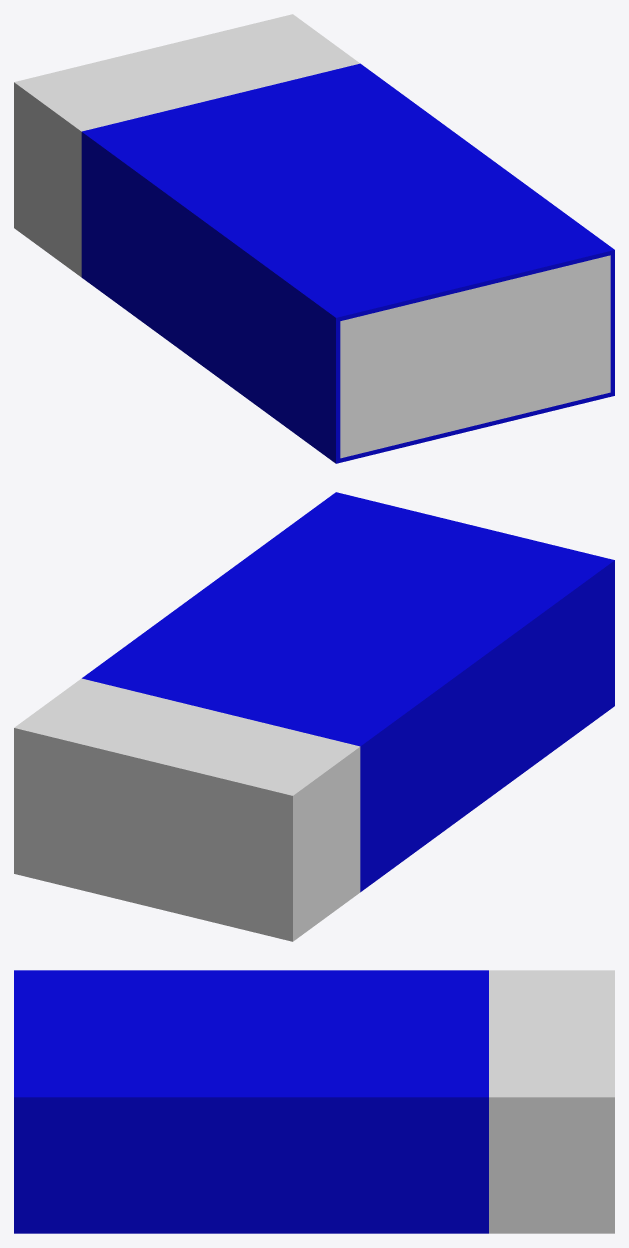
Rendered from Erasor.fbx.
3 views of the same model, one above another, from view 1: azimuth 30°, elevation 25°; view 2: azimuth 150°, elevation 25°; view 3: azimuth 270°, elevation 25° (orthographic). The views are drawn at different scales.
Parts seen in each view (by area): view 1: Cube; view 2: Cube; view 3: Cube.
Part boxes in pixels (bbox=[...]): Cube: bbox=[14, 14, 614, 463]; Cube: bbox=[14, 492, 614, 941]; Cube: bbox=[14, 970, 614, 1233].
Bounding box in the file's own units: 2 × 1 × 4.
